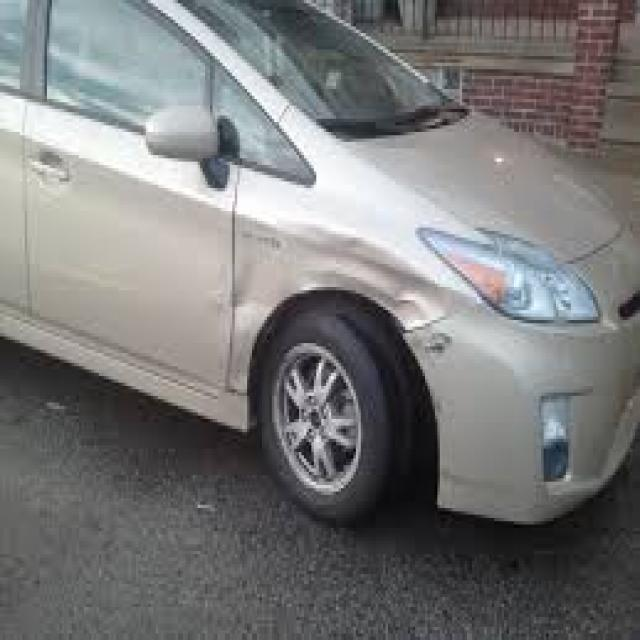minor: (170, 211, 453, 384)
